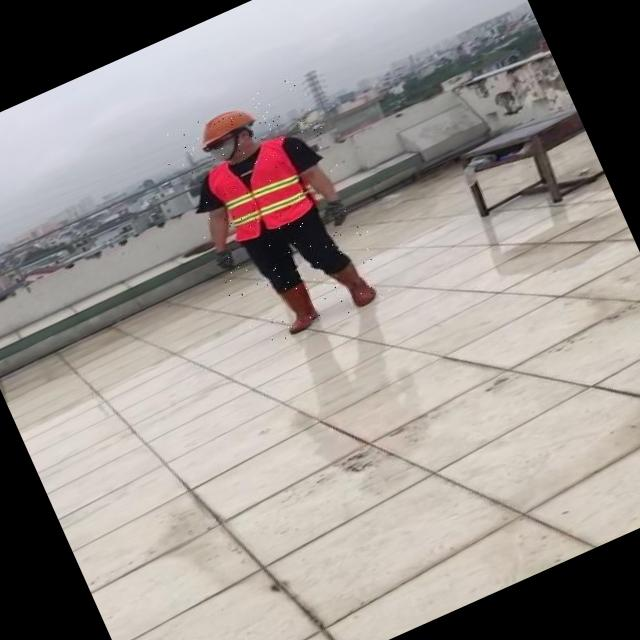hard_hat: (192, 99, 262, 149)
safety_vest: (202, 136, 318, 247)
vehicle: (156, 73, 397, 354)
work_boots: (327, 258, 384, 314), (270, 280, 325, 337)
